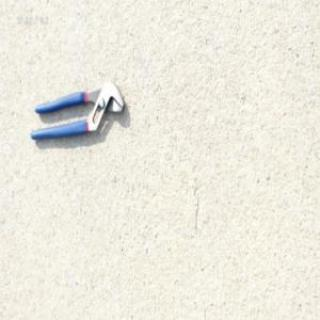Pliertrack_idkeyframe: (28, 79, 125, 142)
